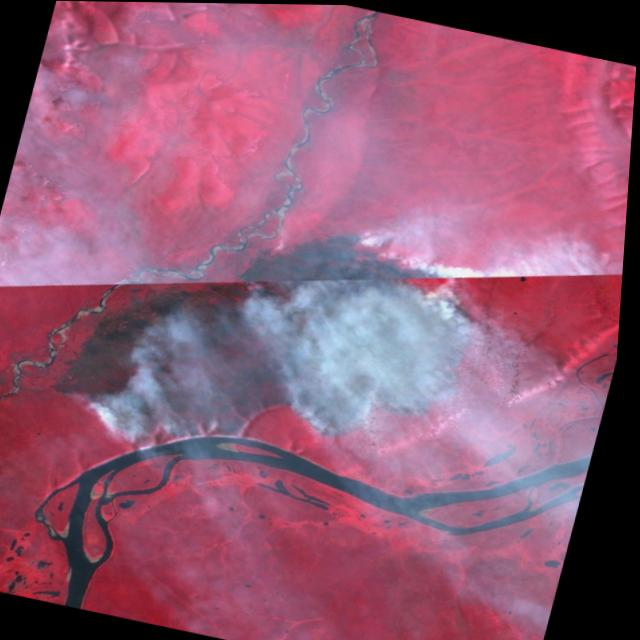fire: (286, 217, 510, 468), (65, 383, 233, 462)
